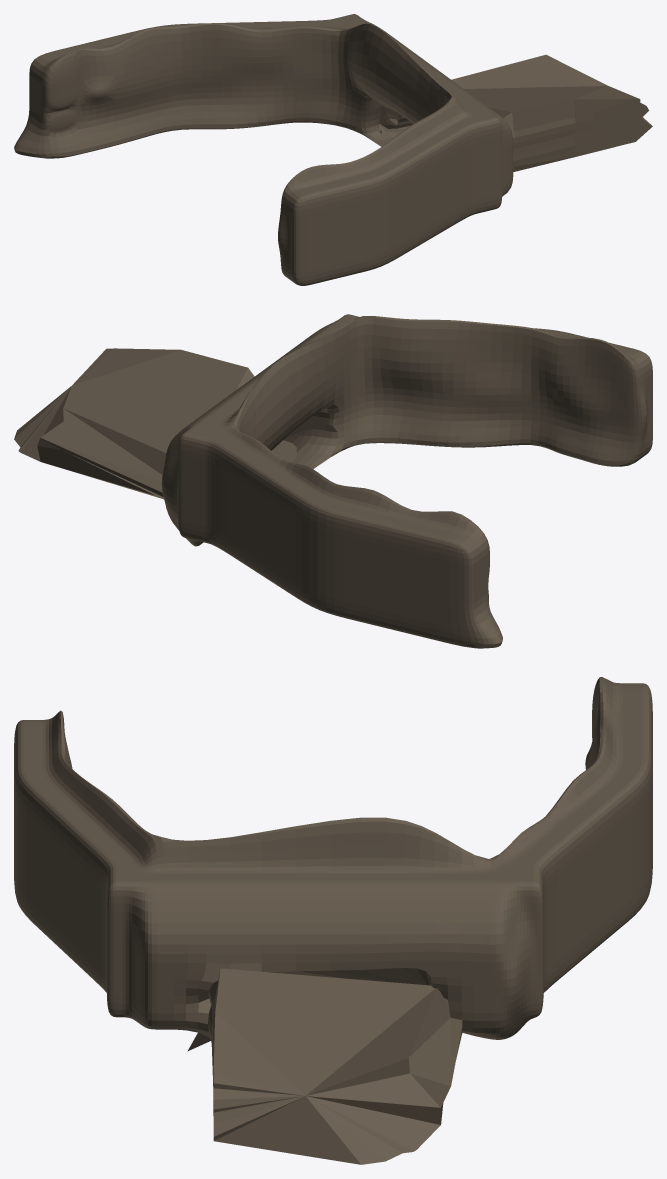
The model's file is Bigrock.fbx.
3 views of the same model, one above another, from view 1: azimuth 30°, elevation 25°; view 2: azimuth 150°, elevation 25°; view 3: azimuth 270°, elevation 25° (orthographic). The views are drawn at different scales.
Visible parts, largest first — view 1: Cube; view 2: Cube; view 3: Cube.
Part boxes in pixels (left/top/right/bottom): Cube: left=14, top=14, right=652, bottom=285; Cube: left=14, top=314, right=652, bottom=648; Cube: left=14, top=677, right=652, bottom=1164.
Bounding box in the file's own units: 32.03 × 43.96 × 11.05.
